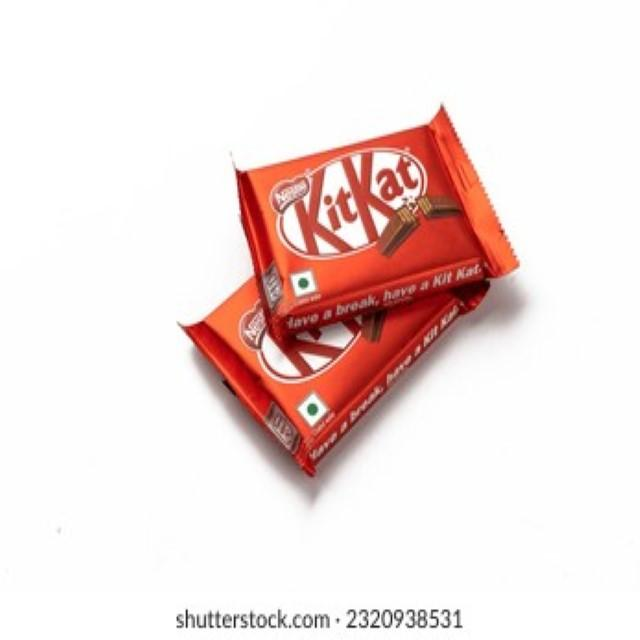kitkat_chocolate: (162, 278, 515, 474), (263, 95, 485, 332)
